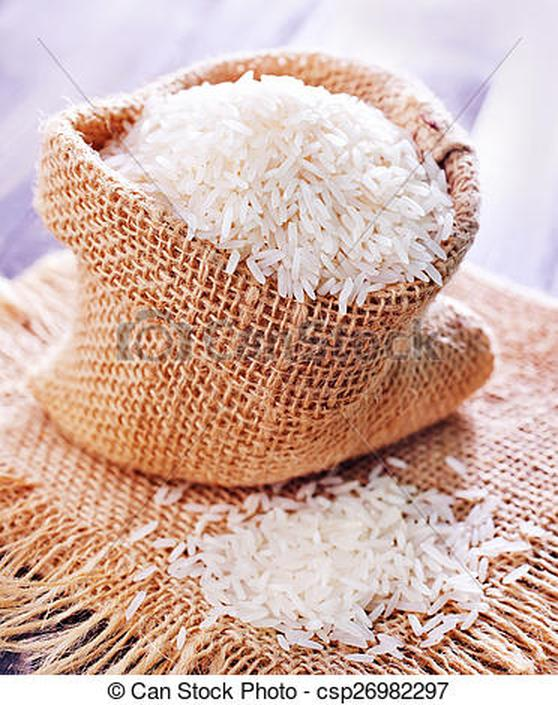rice: (135, 106, 446, 274), (195, 501, 495, 635)
